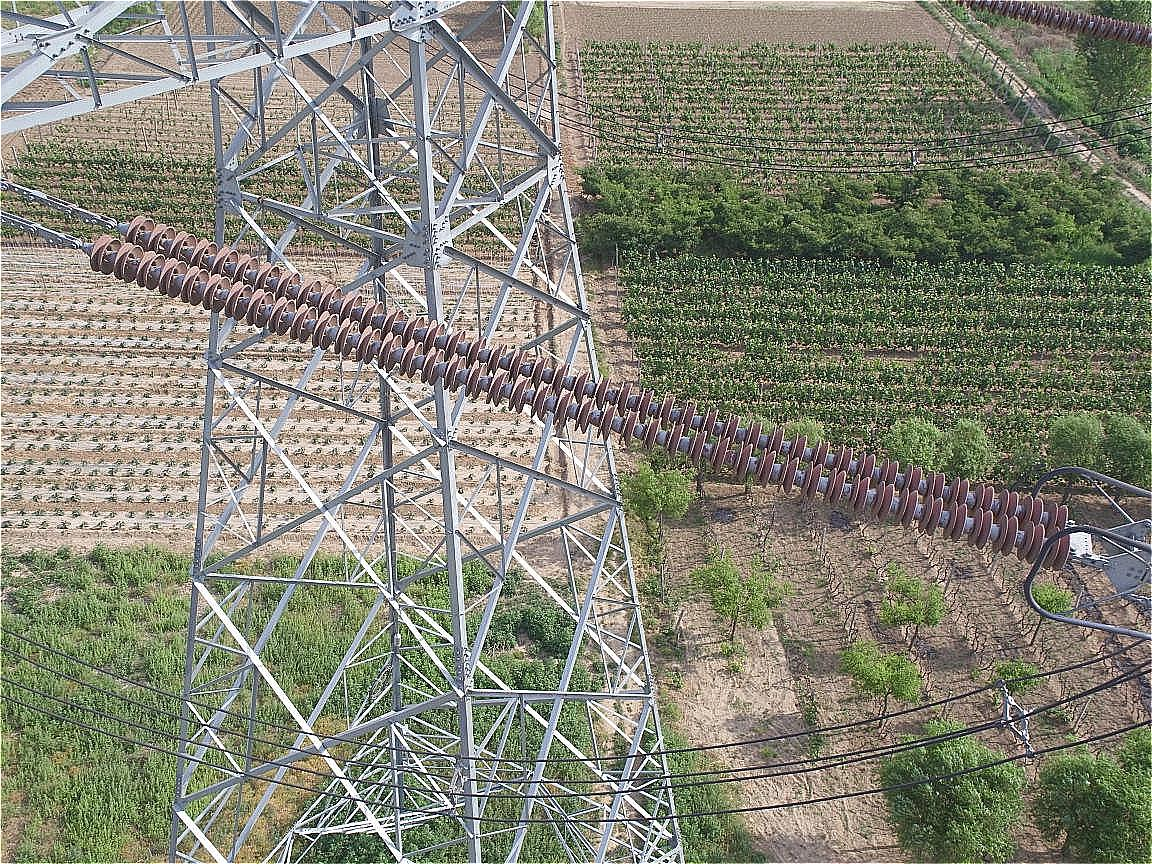insultor2: (92, 216, 1072, 571)
